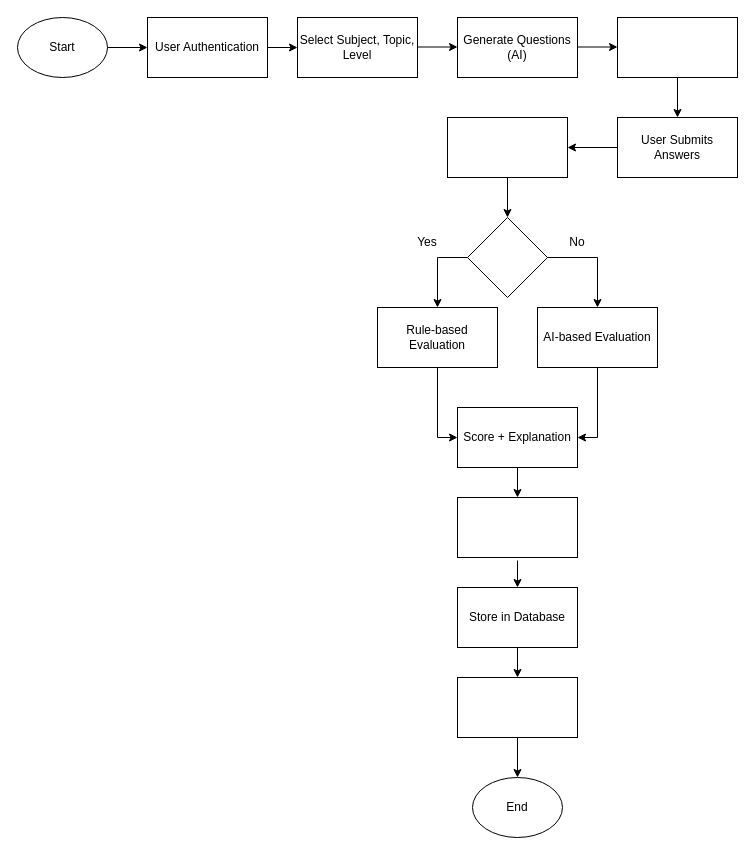
Some shapes in this 755 by 855 pixel diagram are drawn without their labels. The centre of each missing label's shape, as x and y in pixels:
Check Question Type: pixel 507 147
Display Questions: pixel 677 47
Display Result: pixel 517 707
Is MCQ/True-False?: pixel 507 257
Weakness Detection: pixel 517 527
